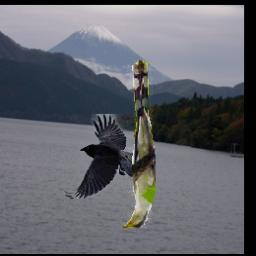Crow: (64, 115, 144, 200)
Cuckoo: (122, 60, 157, 228)
